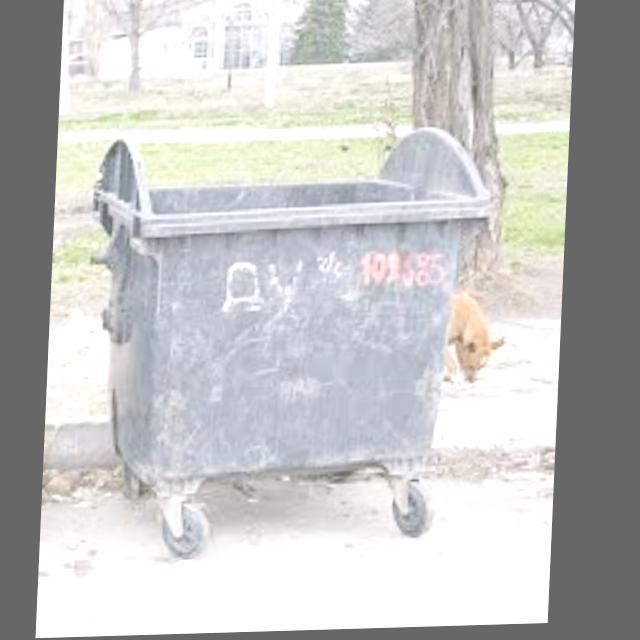Trash_Can_Empty: (86, 125, 499, 488)
